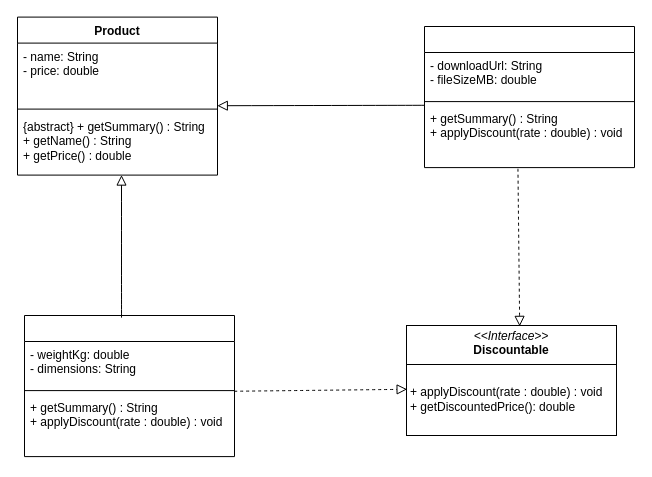
The diagram is 652 pixels wide and 477 high, and some of its shapes have lost their labels. The shapes that lost their labels are listed below. From the top down, each one's box as (x1, y1, x2, y2) in pixels, then its label:
(424, 26, 634, 168): DigitalProduct
(24, 314, 234, 457): PhysicalProduct
